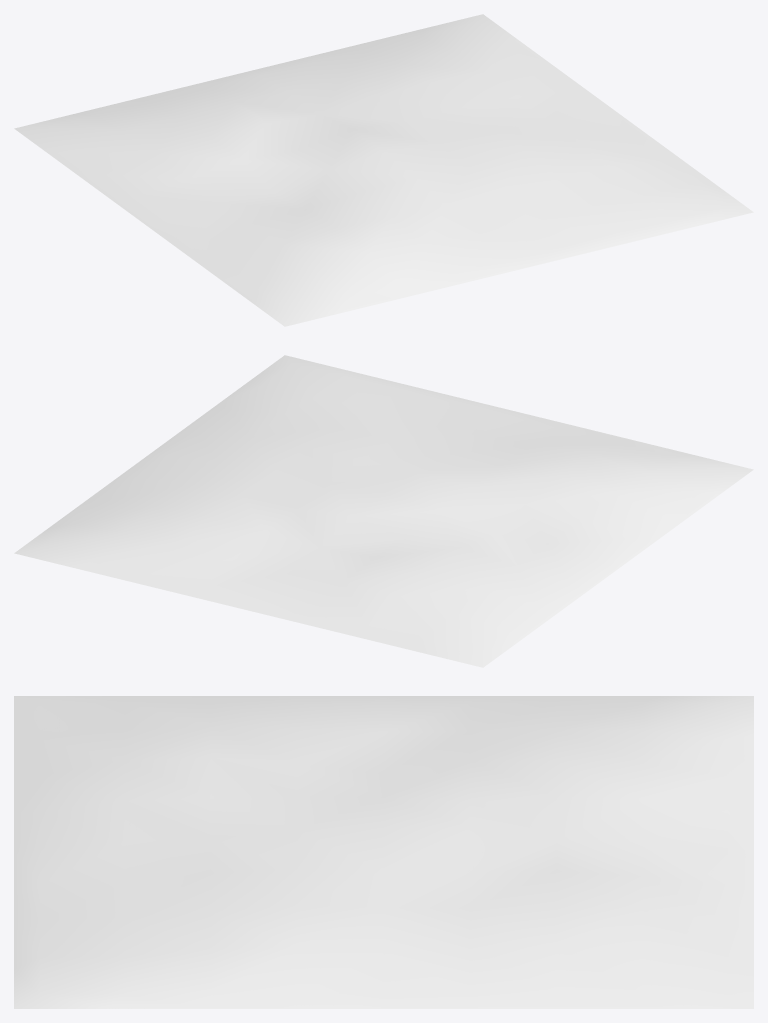
The model's file is Env_Dirt_Medium_Watered_01.glb.
3 views of the same model, one above another, from view 1: azimuth 30°, elevation 25°; view 2: azimuth 150°, elevation 25°; view 3: azimuth 270°, elevation 25° (orthographic). The views are drawn at different scales.
Visible parts, largest first — view 1: Env_Dirt_Medium_Watered_01; view 2: Env_Dirt_Medium_Watered_01; view 3: Env_Dirt_Medium_Watered_01.
Boxes of the visible parts, x1=… form: Env_Dirt_Medium_Watered_01: x1=14, y1=14, x2=753, y2=326; Env_Dirt_Medium_Watered_01: x1=14, y1=355, x2=753, y2=667; Env_Dirt_Medium_Watered_01: x1=14, y1=696, x2=753, y2=1008.
Size of the model in its own units: 1 by 0.0365 by 1.
1 material, 1 textured.
